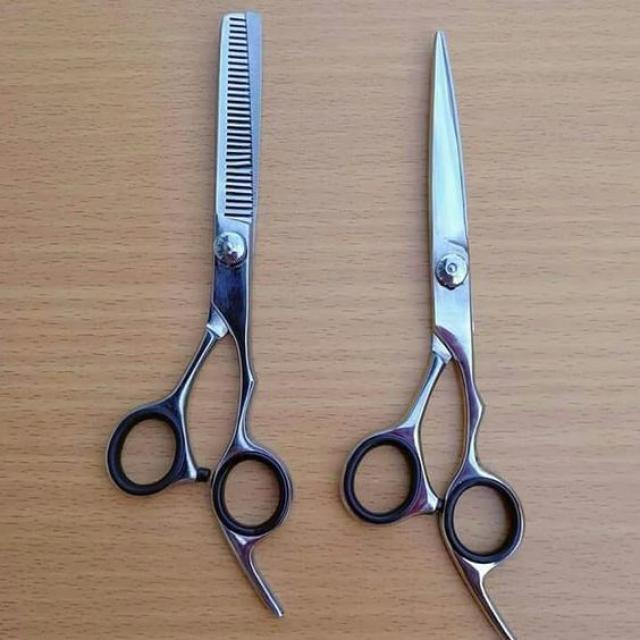Gunting: (105, 13, 292, 624), (342, 35, 526, 638)
